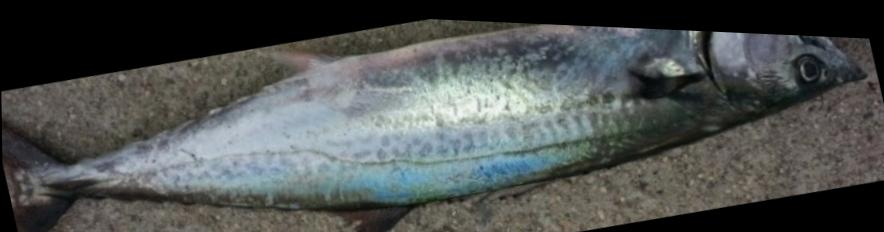fish: (1, 19, 866, 232)
